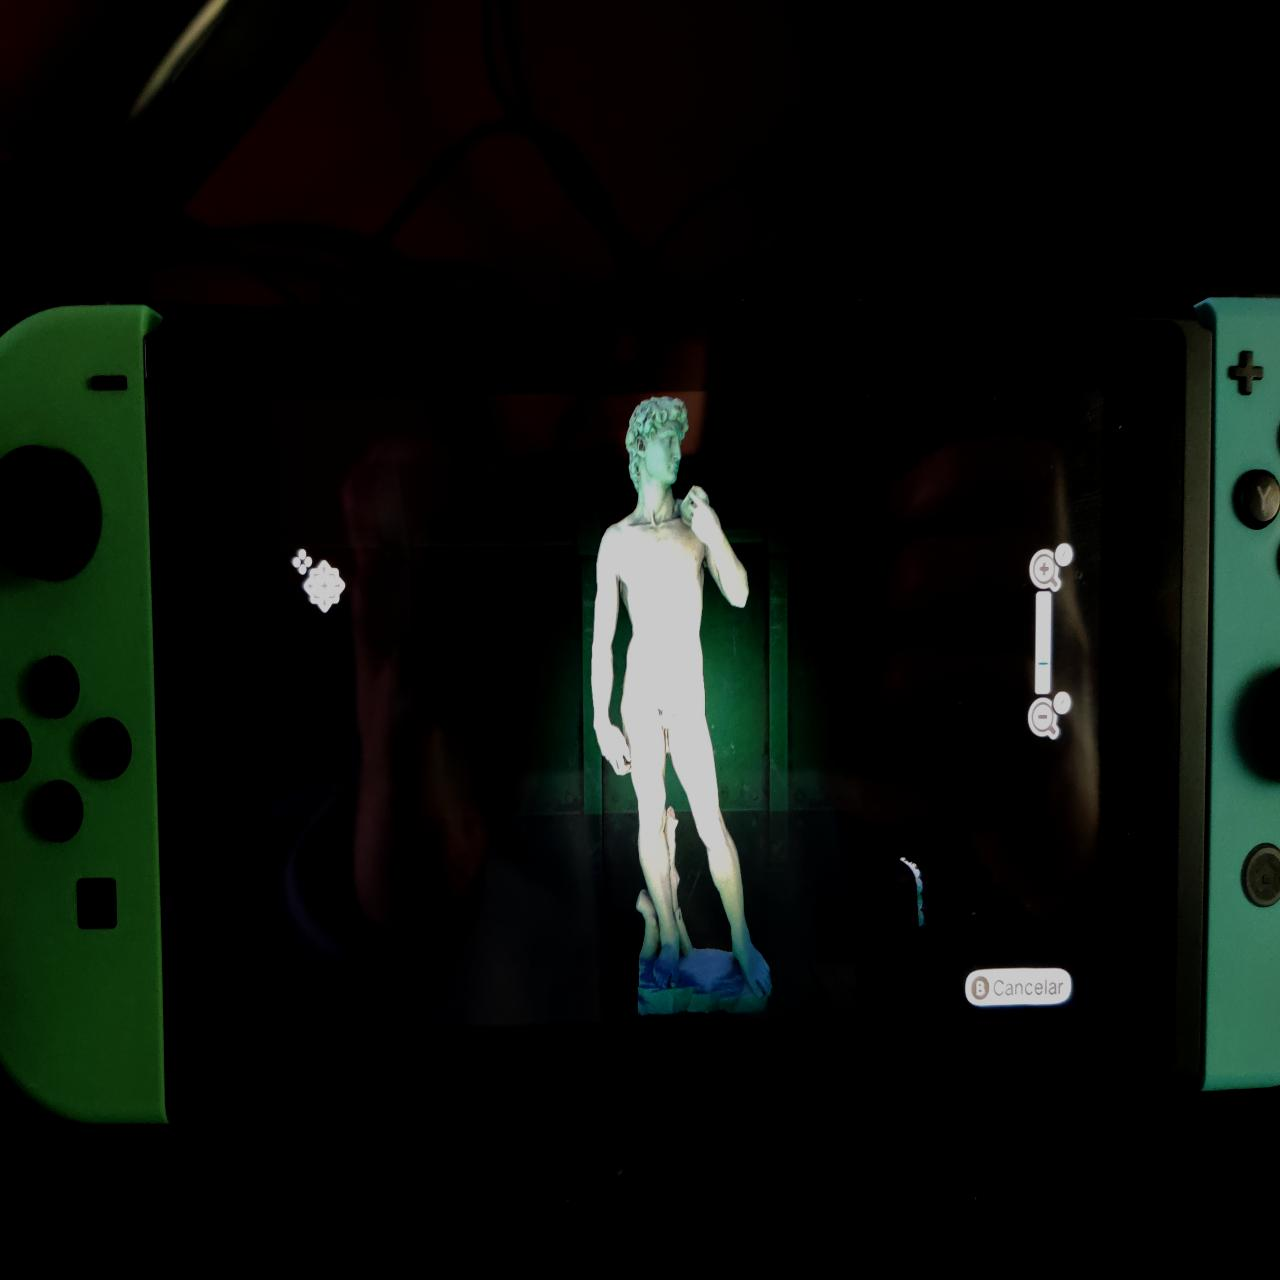David: (585, 388, 782, 1009)
